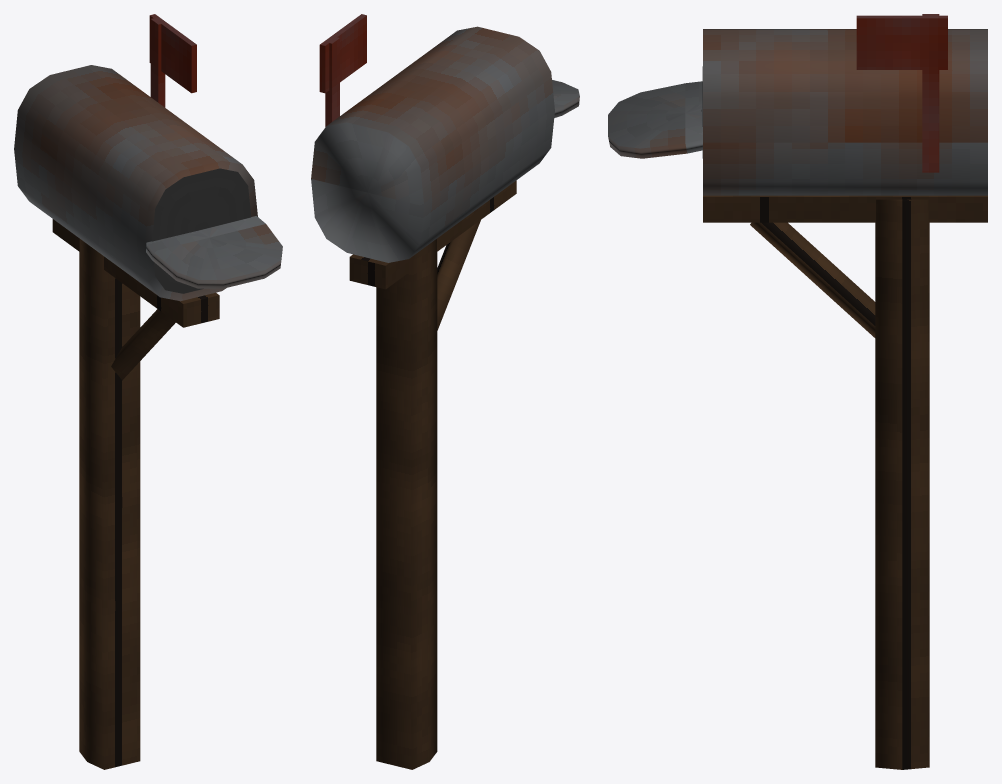
Rendered from ext_mailbox.glb.
3 renders of one model, left to right at view 1: azimuth 30°, elevation 25°; view 2: azimuth 150°, elevation 25°; view 3: azimuth 270°, elevation 25°, orthographic. The views are drawn at different scales.
Visible parts, largest first — view 1: detail, post-col; view 2: detail, post-col; view 3: detail, post-col.
Boxes of the visible parts, x1,y1,x2,y2 form: detail: (14,14,282,380); post-col: (79,239,140,769); detail: (311,14,579,330); post-col: (376,239,437,769); detail: (608,14,987,337); post-col: (875,199,929,769).
Bounding box in the file's own units: 0.271 × 1.5 × 0.6664.
Materials: 5 (5 with a texture image).
